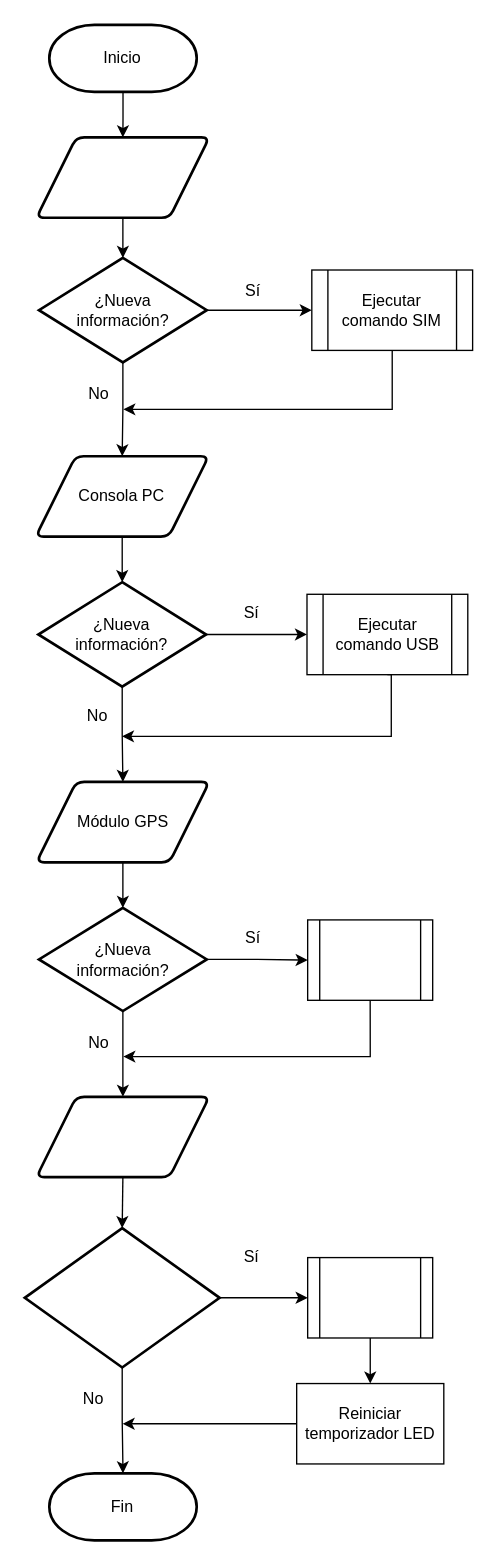
This 496x1564 diagram has some shape labels left out. Each missing label, with the centre of its shape:
"Cambiar estado LED" belongs at point 369,1297.
"Módulo SIM" belongs at point 122,176.
"Procesar información GPS" belongs at point 369,959.
"Temporizador LED" belongs at point 122,1136.
"¿Transcurrió el tiempo establecido?" belongs at point 121,1297.
